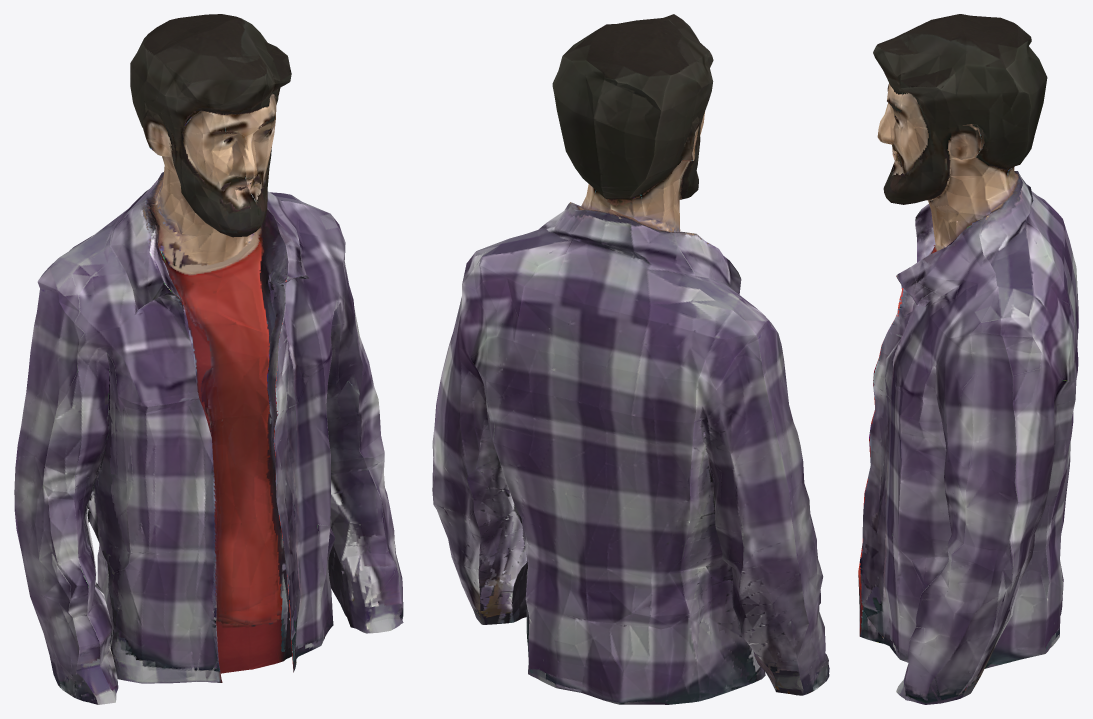
File: step_3.glb
3 renders of one model, left to right at view 1: azimuth 30°, elevation 25°; view 2: azimuth 150°, elevation 25°; view 3: azimuth 270°, elevation 25°, orthographic. The views are drawn at different scales.
Parts seen in each view (by area): view 1: geometry_0; view 2: geometry_0; view 3: geometry_0.
Part boxes in pixels (bbox=[...]): geometry_0: bbox=[14, 14, 403, 704]; geometry_0: bbox=[432, 14, 829, 704]; geometry_0: bbox=[858, 14, 1078, 704].
Bounding box in the file's own units: 0.5031 × 0.8284 × 0.2748.
1 material, 1 textured.
